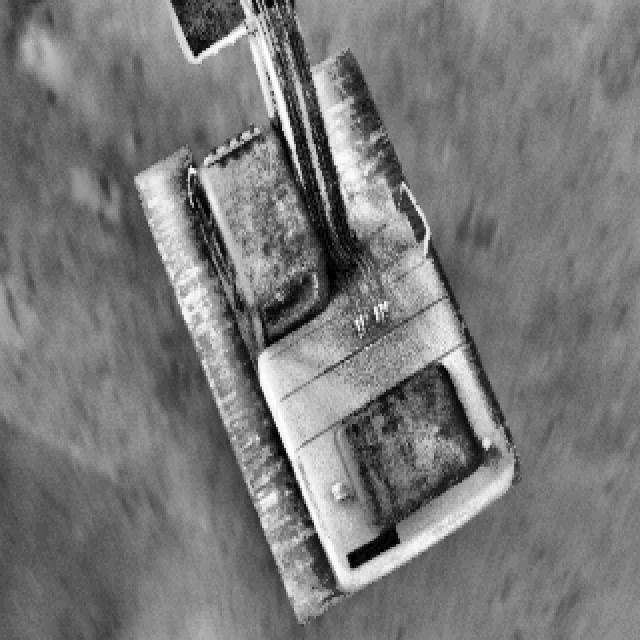excavator: (120, 0, 520, 624)
